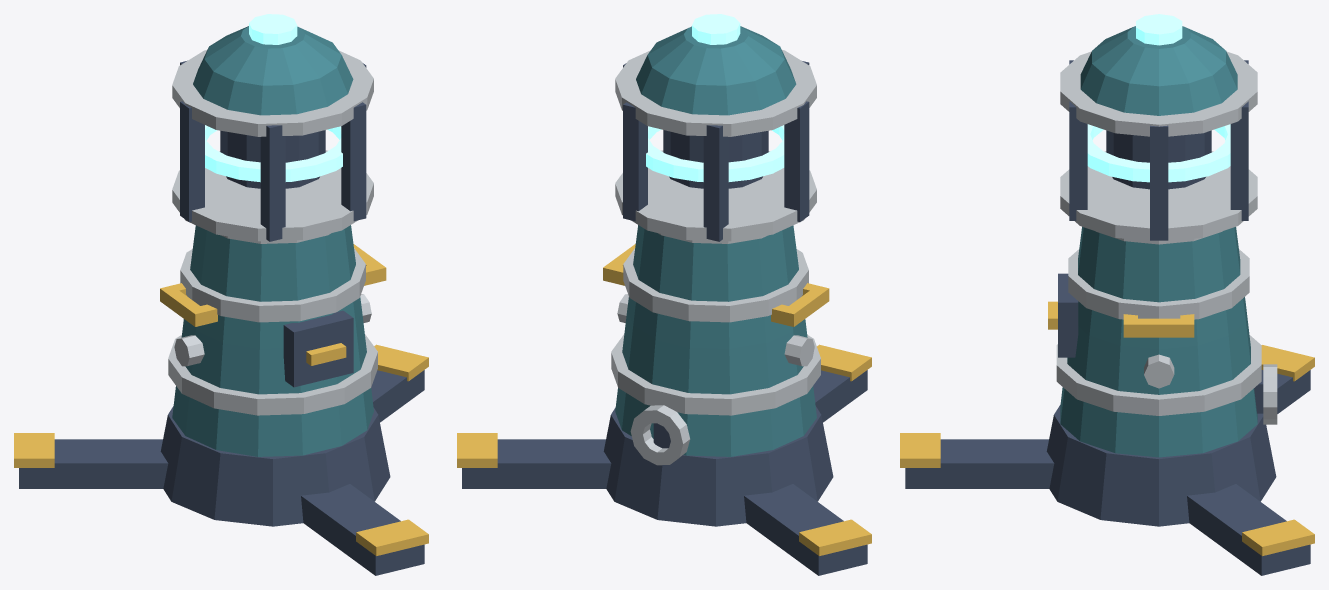
3 renders of one model, left to right at view 1: azimuth 30°, elevation 25°; view 2: azimuth 150°, elevation 25°; view 3: azimuth 270°, elevation 25°, orthographic.
Visible parts, largest first — view 1: DL003_DiveBeacon_graphite_navy, DL003_DiveBeacon_teal_shell, DL003_DiveBeacon_titanium, DL003_DiveBeacon_amber_accent, DL003_DiveBeacon_emissive_cyan; view 2: DL003_DiveBeacon_teal_shell, DL003_DiveBeacon_graphite_navy, DL003_DiveBeacon_titanium, DL003_DiveBeacon_amber_accent, DL003_DiveBeacon_emissive_cyan; view 3: DL003_DiveBeacon_teal_shell, DL003_DiveBeacon_graphite_navy, DL003_DiveBeacon_titanium, DL003_DiveBeacon_amber_accent, DL003_DiveBeacon_emissive_cyan.
Part boxes in pixels (x1=…): DL003_DiveBeacon_graphite_navy: x1=19, y1=60, x2=424, y2=575; DL003_DiveBeacon_teal_shell: x1=172, y1=26, x2=373, y2=456; DL003_DiveBeacon_titanium: x1=168, y1=50, x2=377, y2=415; DL003_DiveBeacon_amber_accent: x1=14, y1=244, x2=428, y2=555; DL003_DiveBeacon_emissive_cyan: x1=205, y1=14, x2=342, y2=182; DL003_DiveBeacon_teal_shell: x1=615, y1=26, x2=816, y2=456; DL003_DiveBeacon_graphite_navy: x1=462, y1=61, x2=867, y2=575; DL003_DiveBeacon_titanium: x1=611, y1=50, x2=820, y2=465; DL003_DiveBeacon_amber_accent: x1=457, y1=244, x2=871, y2=555; DL003_DiveBeacon_emissive_cyan: x1=646, y1=14, x2=784, y2=181; DL003_DiveBeacon_teal_shell: x1=1060, y1=26, x2=1257, y2=457; DL003_DiveBeacon_graphite_navy: x1=905, y1=60, x2=1310, y2=575; DL003_DiveBeacon_titanium: x1=1056, y1=51, x2=1277, y2=424; DL003_DiveBeacon_amber_accent: x1=900, y1=301, x2=1314, y2=556; DL003_DiveBeacon_emissive_cyan: x1=1087, y1=14, x2=1230, y2=182.
Bounding box in the file's own units: 2.37 × 2.47 × 2.05.
